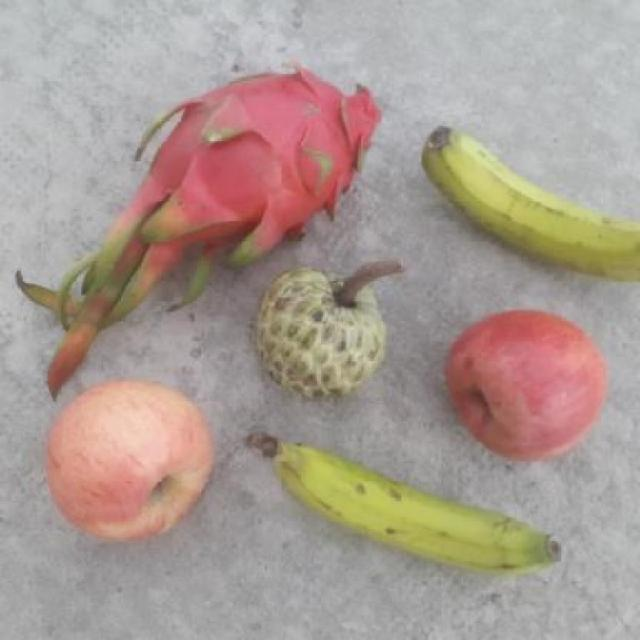apple: (46, 378, 214, 554), (440, 306, 612, 465)
banana: (243, 430, 572, 584), (419, 124, 639, 290)
dragon fruit: (134, 58, 389, 258)
sugar apple: (250, 263, 392, 405)
